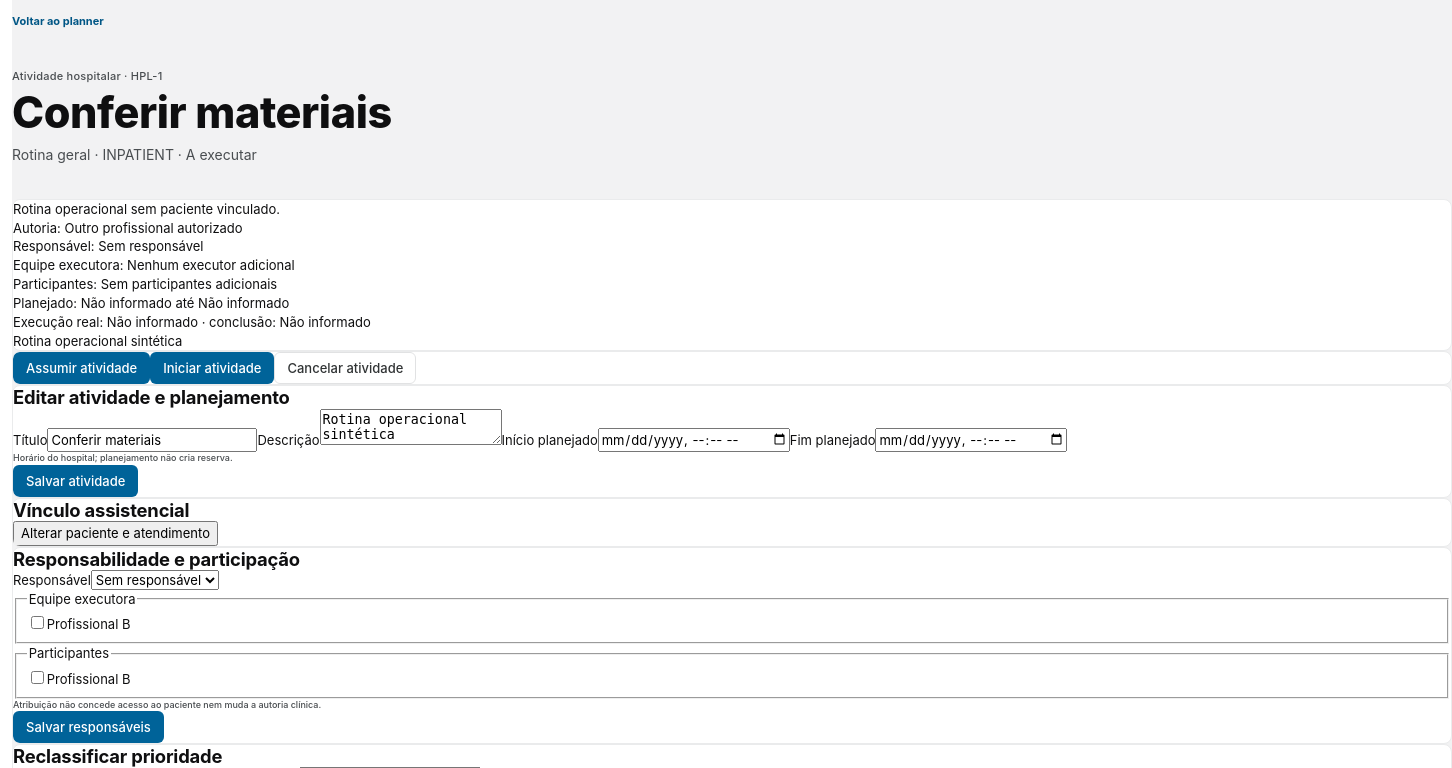
updates metadata and the hospital civil dates with the current revision, preserving the clinical command boundary
Replace the text in the field labelled "Título" with "  Rotina ajustada  " at (152, 440), box [47,428,257,452]
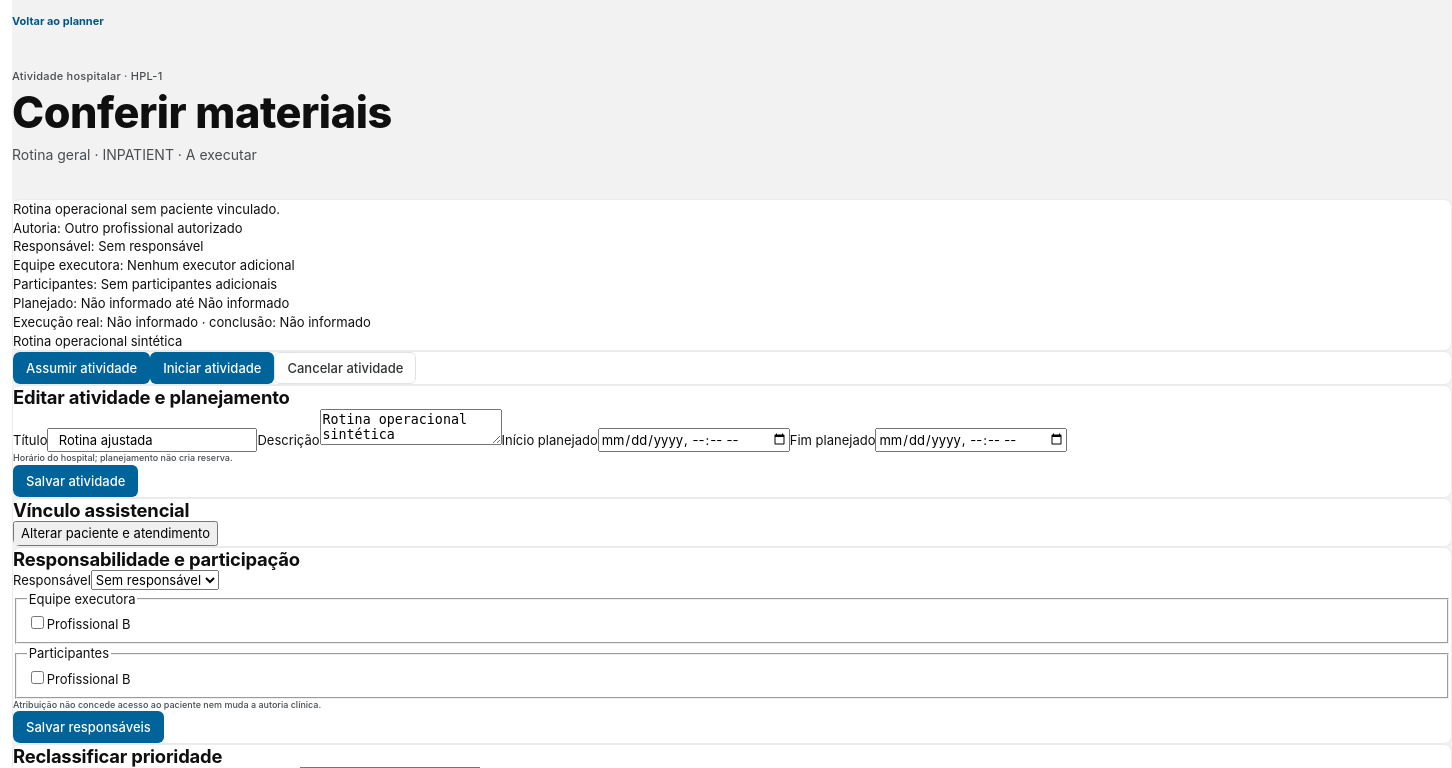
Replace the text in the text box labelled "Descrição" with "  Conferir itens do setor  " at (410, 426), box [320,408,502,444]
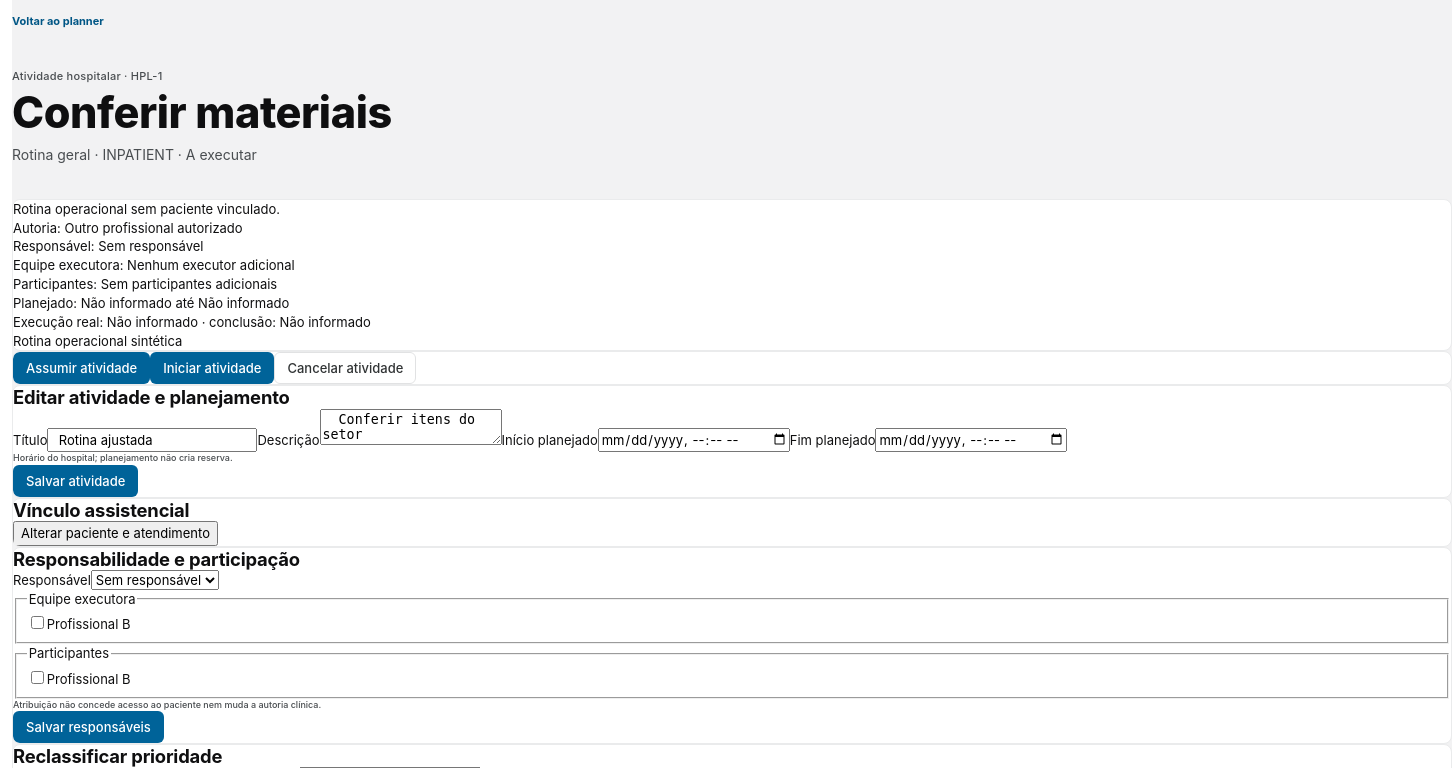
Type "2026-10-11T10:00" into the field labelled "Início planejado" at (694, 440), box [598,428,790,452]
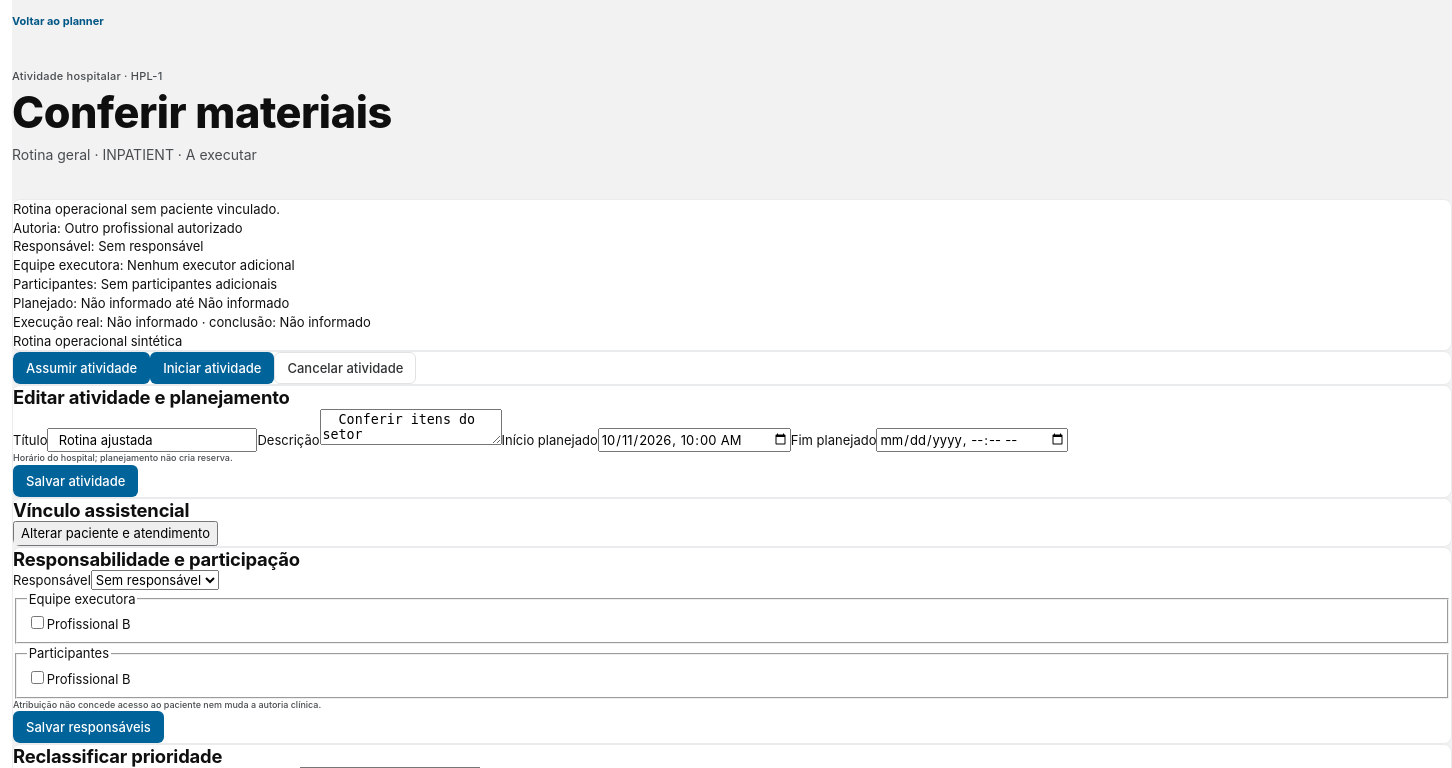
Type "2026-10-11T11:00" into the field labelled "Fim planejado" at (972, 440), box [876,428,1068,452]
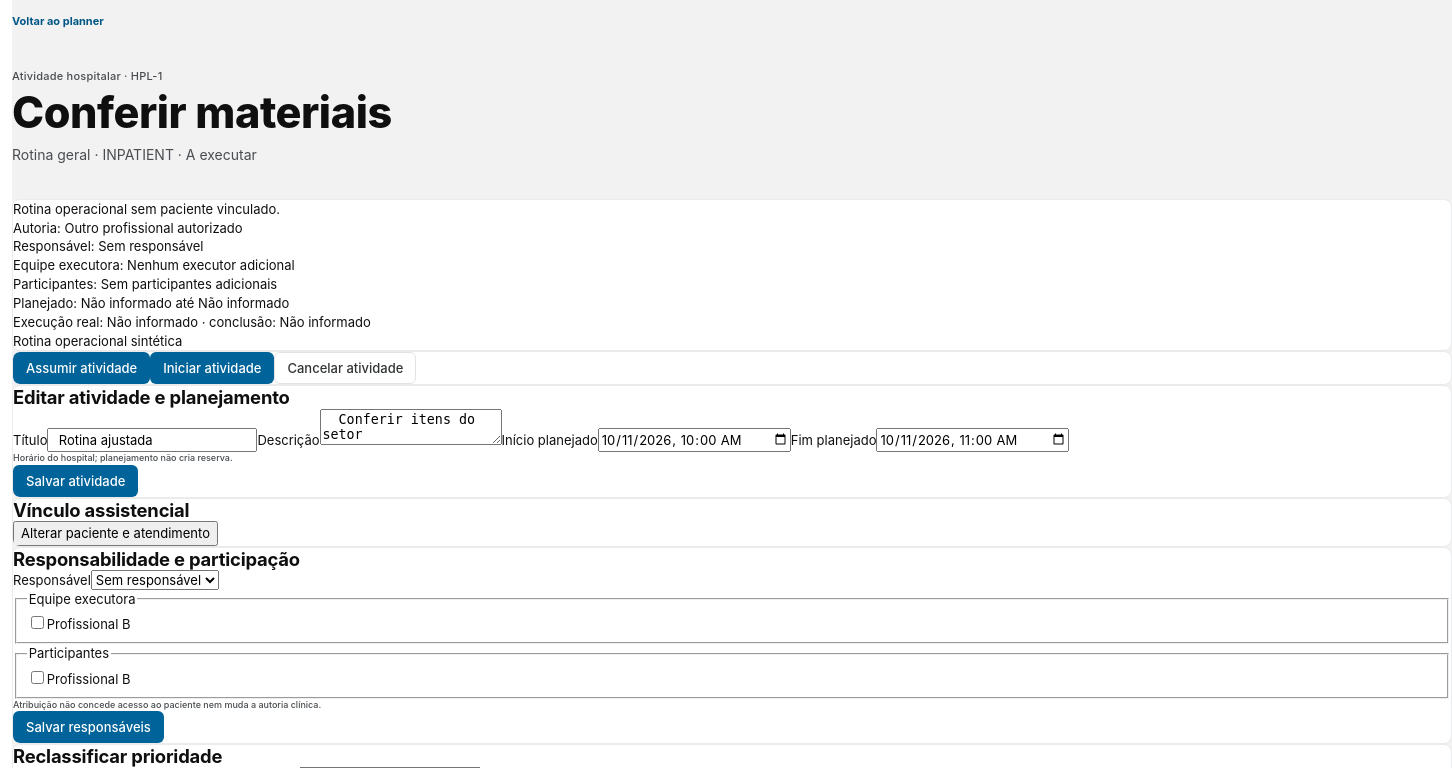
Submit the form named "Editar atividade hospitalar", box [13,408,1070,497]
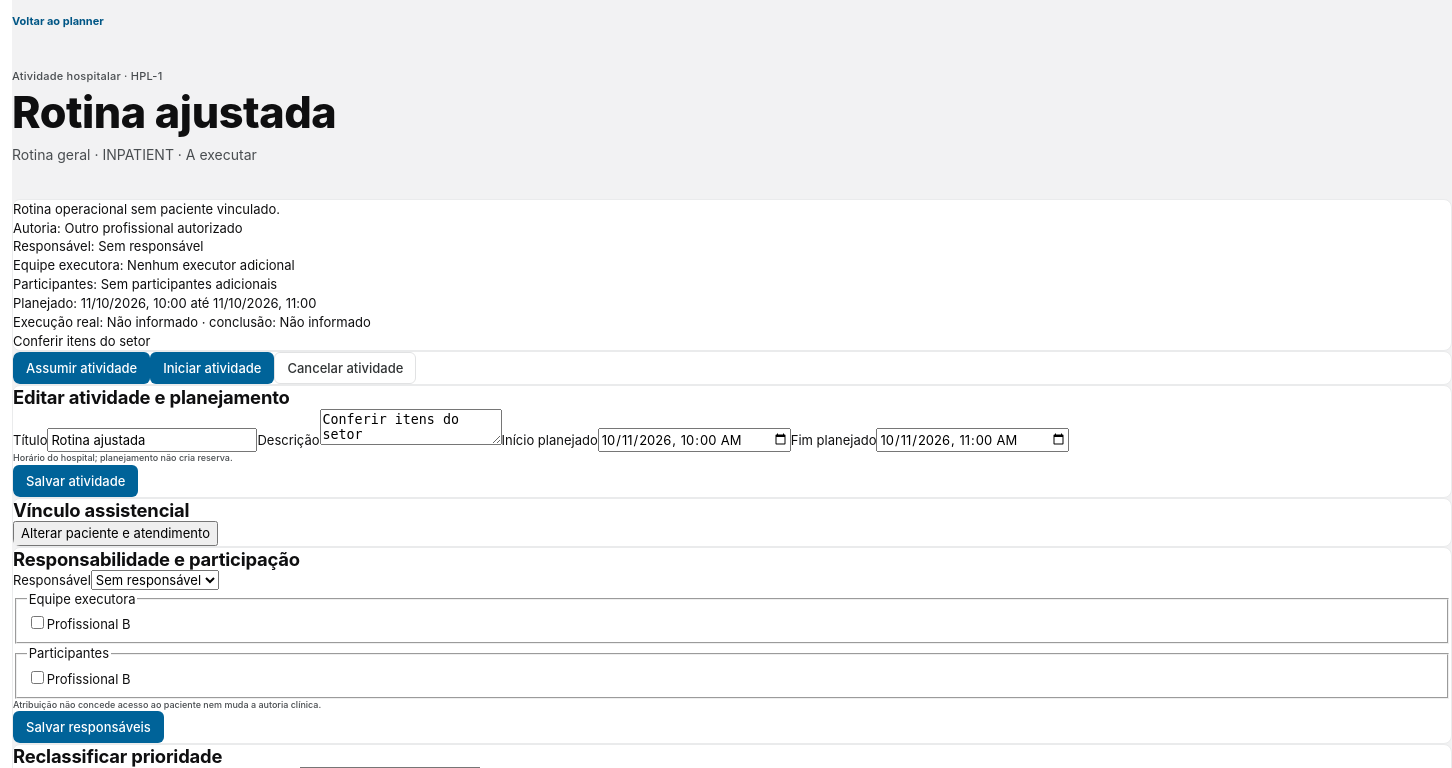
Expected: the heading "Rotina ajustada" is shown, [12,90,336,135]
